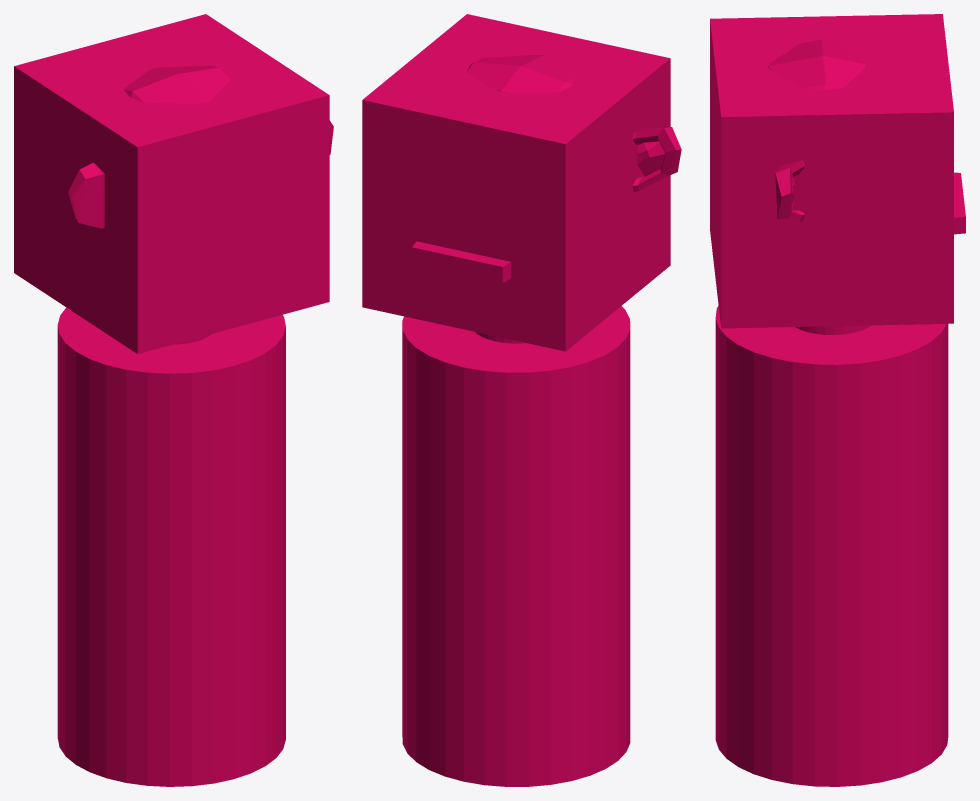
File: player.glb
3 renders of one model, left to right at view 1: azimuth 30°, elevation 25°; view 2: azimuth 150°, elevation 25°; view 3: azimuth 270°, elevation 25°, orthographic. The views are drawn at different scales.
Parts seen in each view (by area): view 1: Cylinder; view 2: Cylinder; view 3: Cylinder.
Part boxes in pixels (x1,y1,x2,y2): Cylinder: [14, 14, 333, 786]; Cylinder: [362, 14, 681, 786]; Cylinder: [710, 14, 965, 786].
Bounding box in the file's own units: 2.73 × 6.46 × 2.2.
